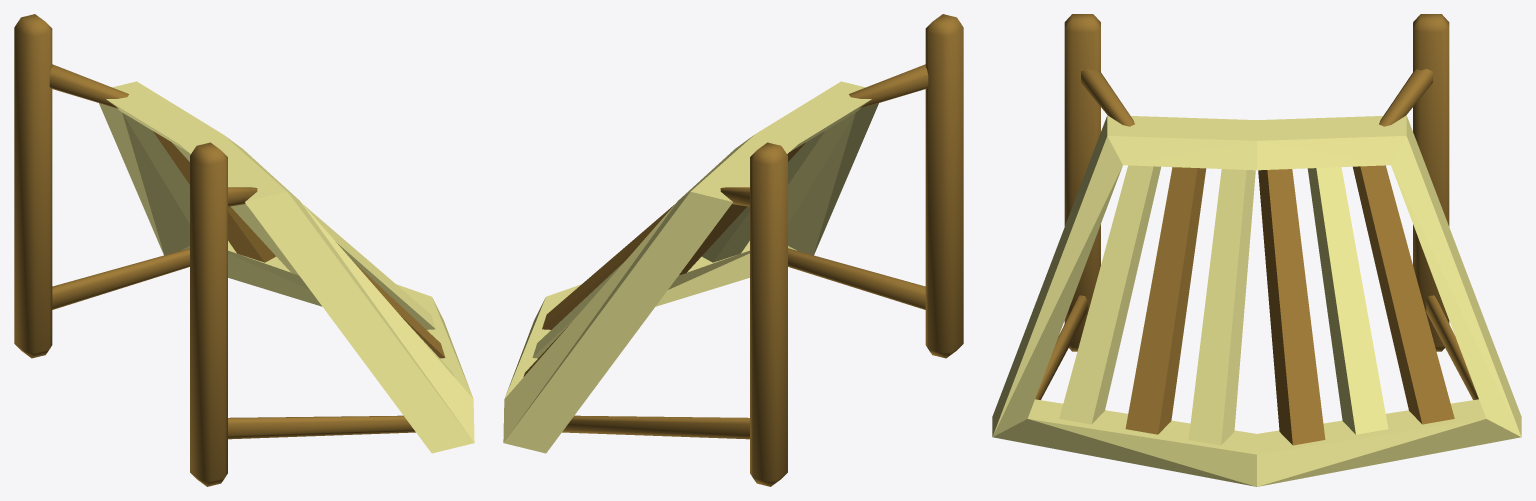
The model's file is ram_wood.fbx.
3 views of the same model, side by side, from view 1: azimuth 30°, elevation 25°; view 2: azimuth 150°, elevation 25°; view 3: azimuth 270°, elevation 25° (orthographic).
Parts seen in each view (by area): view 1: ram_wood; view 2: ram_wood; view 3: ram_wood.
Part boxes in pixels (x1,y1,x2,y2): ram_wood: (14,14,474,486); ram_wood: (503,14,963,486); ram_wood: (992,14,1521,486).
Size of the model in its own units: 200 by 189 by 274.
